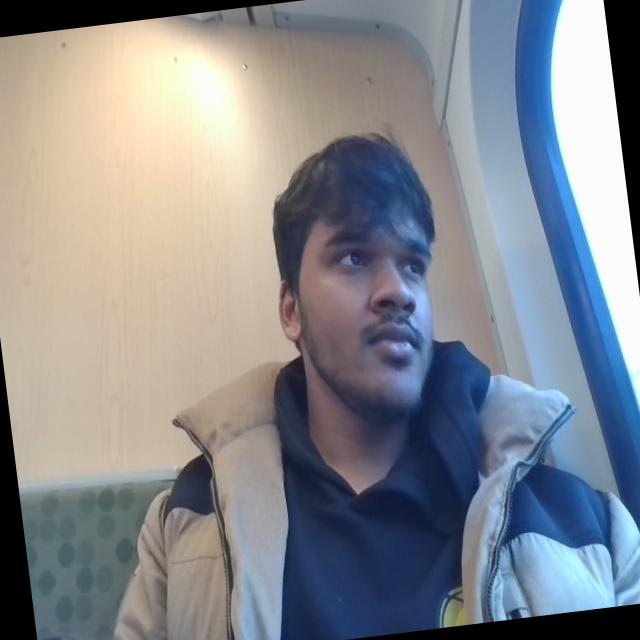no hat: (239, 102, 435, 215)
